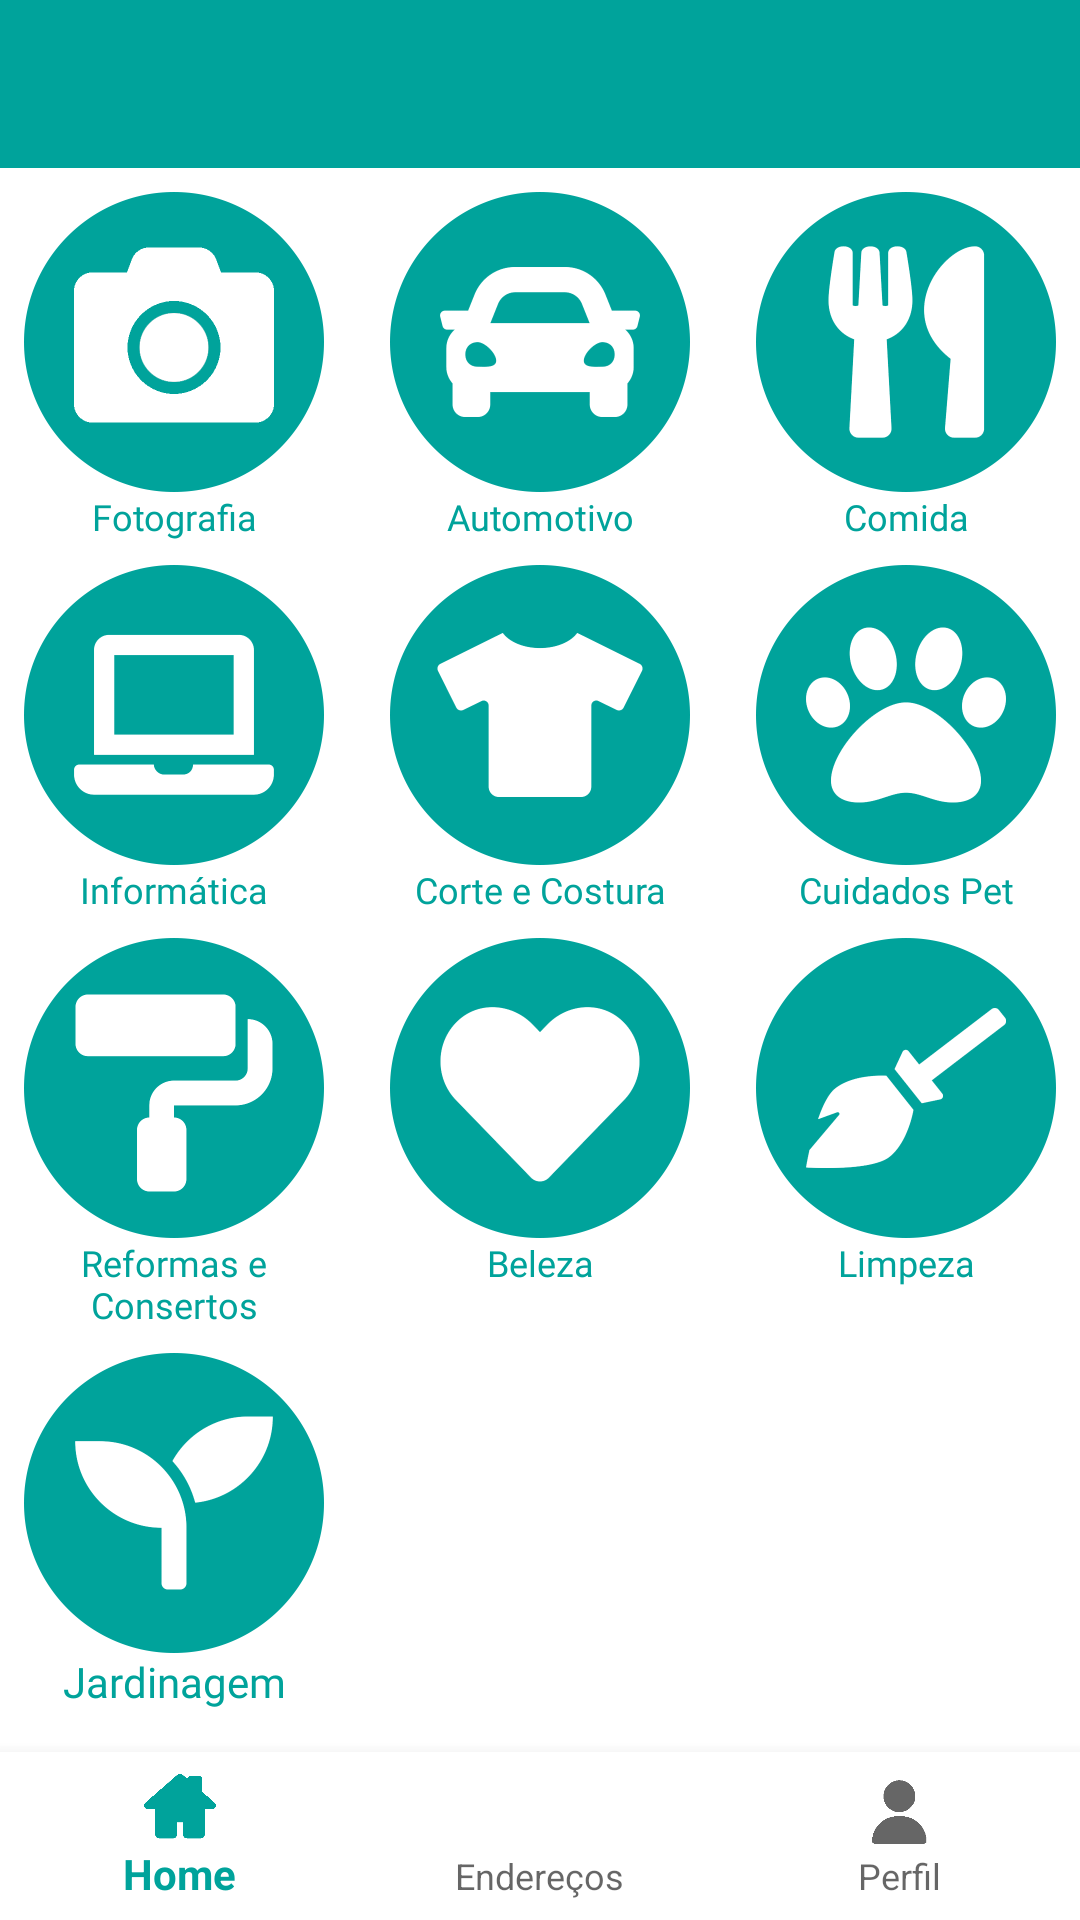

Point at icon controls on the screen. Image size 1080x1920, points as (x=x, y=y).
broom: (x=906, y=1088)
camera: (x=174, y=342)
car: (x=540, y=342)
heart: (x=540, y=1088)
laptop: (x=174, y=715)
paint: (x=174, y=1088)
plant: (x=174, y=1503)
tshirt: (x=540, y=715)
